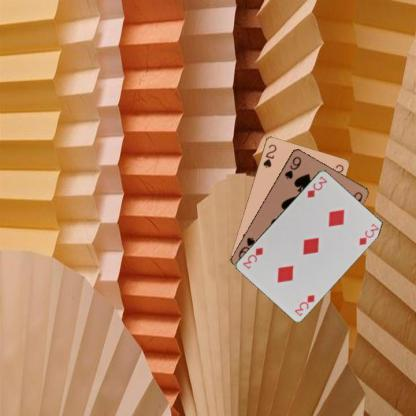2s: (260, 142, 278, 170)
3d: (304, 174, 329, 198), (292, 292, 316, 316)
9s: (282, 154, 302, 180)
